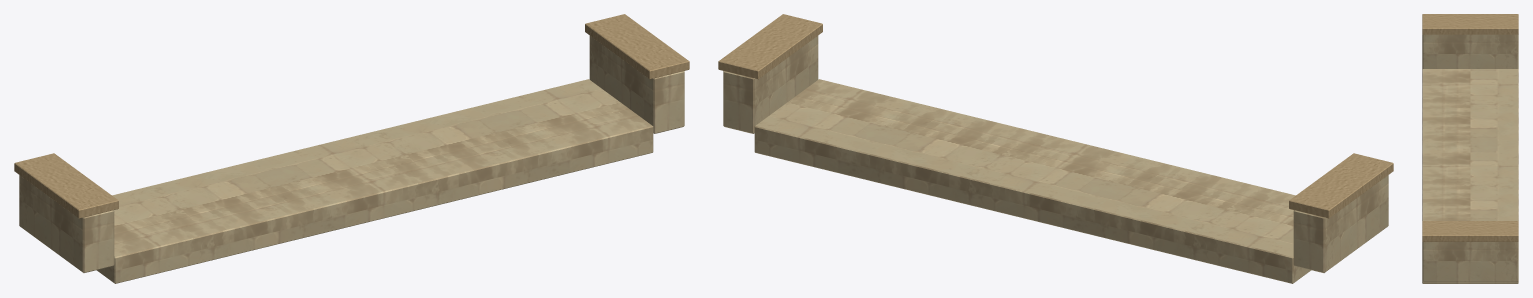
Rendered from stone-bridge-span.glb.
3 renders of one model, left to right at view 1: azimuth 30°, elevation 25°; view 2: azimuth 150°, elevation 25°; view 3: azimuth 270°, elevation 25°, orthographic. The views are drawn at different scales.
Visible parts, largest first — view 1: stone-bridge-span|3dtextures-dressed-limestone, stone-bridge-span|3dtextures-limestone-coping; view 2: stone-bridge-span|3dtextures-dressed-limestone, stone-bridge-span|3dtextures-limestone-coping; view 3: stone-bridge-span|3dtextures-dressed-limestone, stone-bridge-span|3dtextures-limestone-coping.
Part boxes in pixels (x1,y1,x2,y2): stone-bridge-span|3dtextures-dressed-limestone: [19, 36, 684, 283]; stone-bridge-span|3dtextures-limestone-coping: [14, 14, 689, 218]; stone-bridge-span|3dtextures-dressed-limestone: [723, 36, 1388, 283]; stone-bridge-span|3dtextures-limestone-coping: [718, 14, 1393, 218]; stone-bridge-span|3dtextures-dressed-limestone: [1422, 34, 1518, 283]; stone-bridge-span|3dtextures-limestone-coping: [1422, 14, 1518, 241].
Bounding box in the file's own units: 5.44 × 0.7075 × 1.
2 materials, 2 textured.
